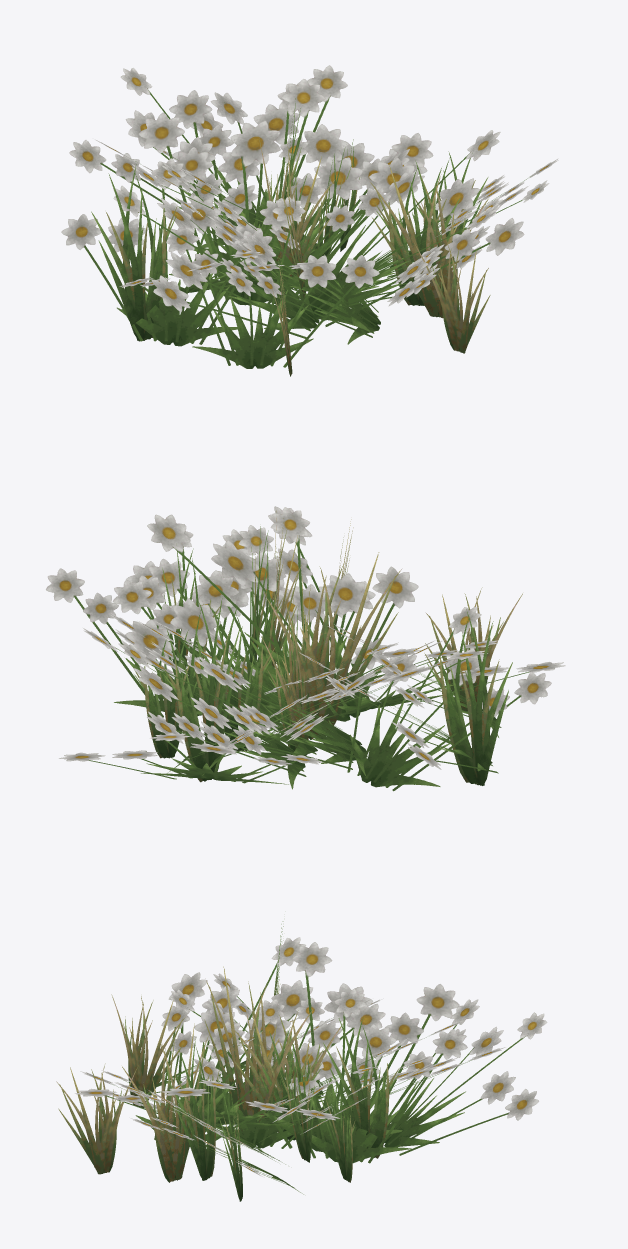
Rendered from flowers_a.glb.
The picture shows the model from 3 angles, top to bottom: view 1: azimuth 30°, elevation 25°; view 2: azimuth 150°, elevation 25°; view 3: azimuth 270°, elevation 25°; orthographic projection. The views are drawn at different scales.
Parts seen in each view (by area): view 1: flowers, leaves; view 2: flowers, leaves; view 3: flowers, leaves.
Boxes of the visible parts, x1,y1,x2,y2 form: flowers: (61,65,558,368); leaves: (91,98,490,376); flowers: (46,506,565,791); leaves: (133,510,522,785); flowers: (75,937,547,1194); leaves: (56,921,399,1201).
Bounding box in the file's own units: 1.02 × 0.3387 × 1.06.
2 materials, 2 textured.
